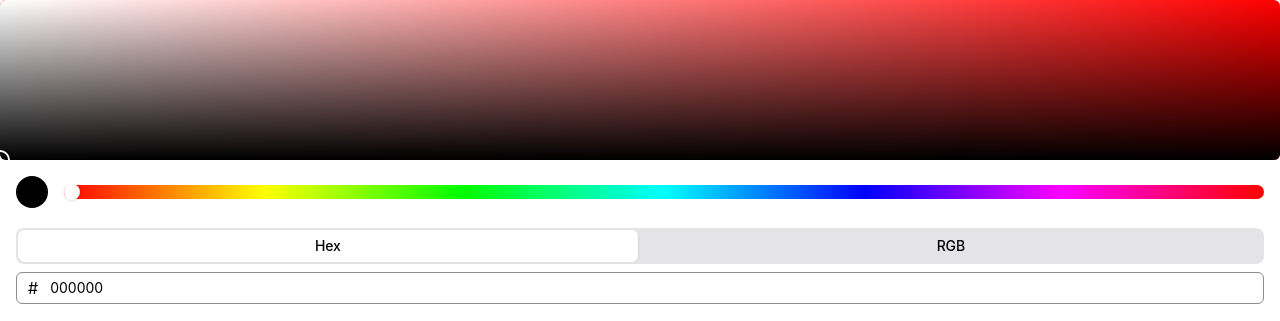
Test: components/color-picker/RuiColorPicker.vue › should type on the input
Replace the text in the field named "Hex color" with "ff0000" at (651, 288), box [38,272,1264,304]
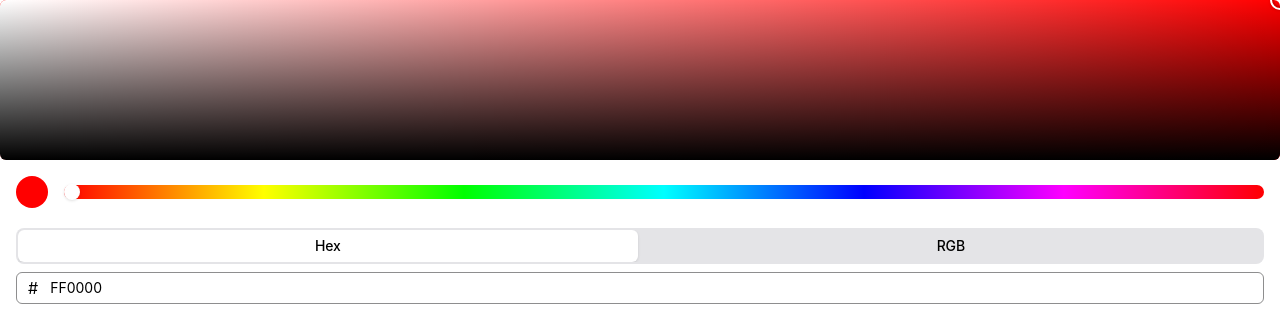
Click the tab "RGB".
click(951, 246)  # box [640,230,1262,262]
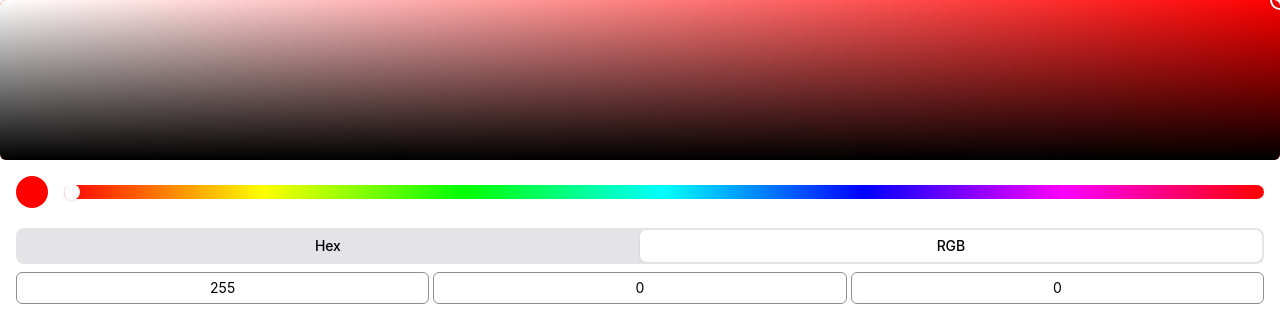
Expected: the field named "Red" holds "255"
Expected: the field named "Green" holds "0", [433,272,847,304]
Expected: the field named "Blue" holds "0", [851,272,1264,304]
Replace the text in the field named "Red" with "128" at (223, 288), box [16,272,429,304]
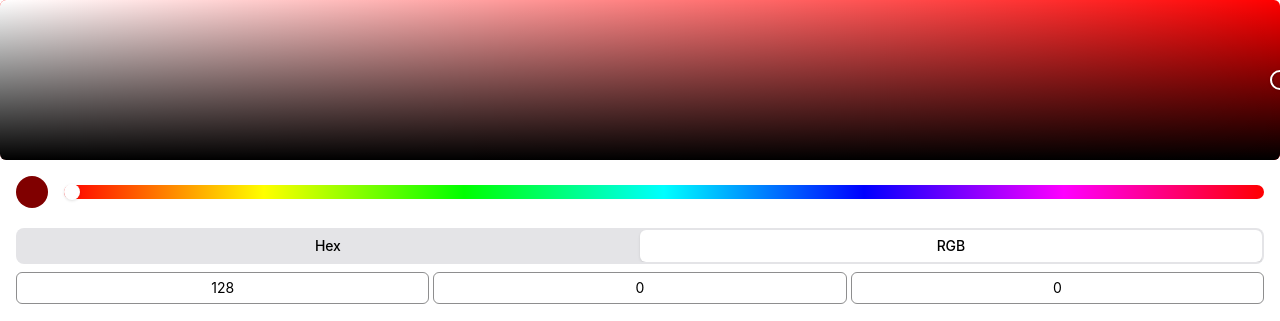
Replace the text in the field named "Green" with "255" at (640, 288), box [433,272,847,304]
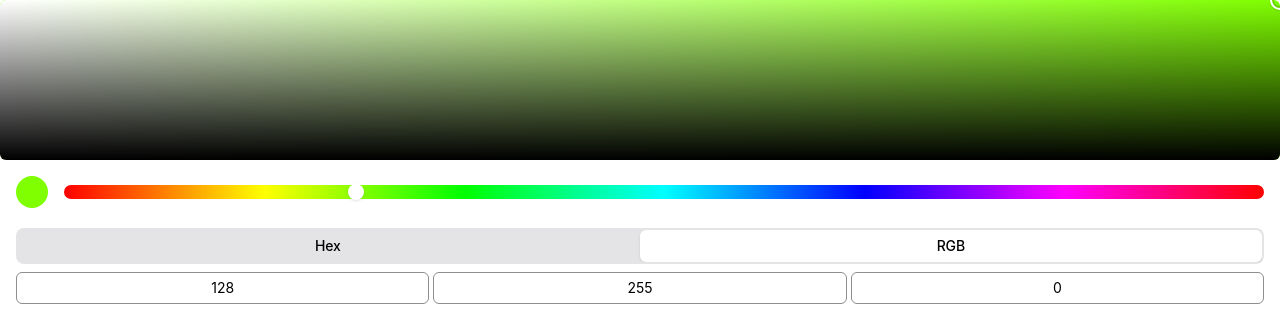
Replace the text in the field named "Blue" with "255" at (1057, 288), box [851,272,1264,304]
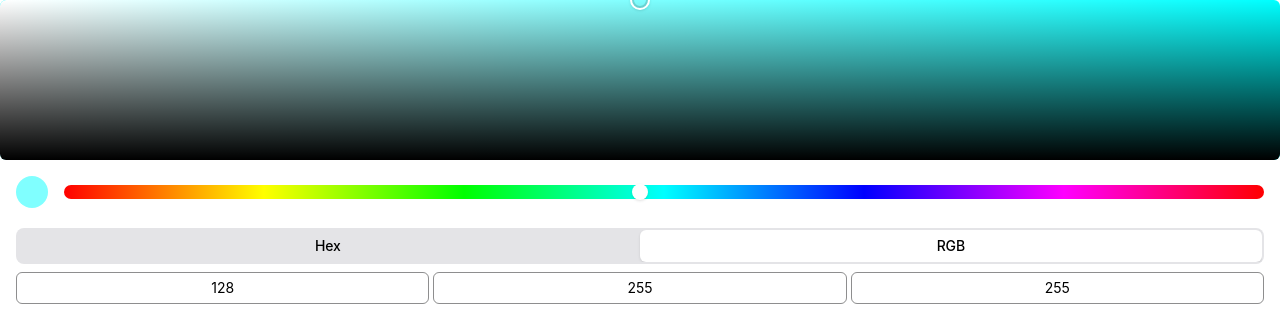
Click the tab "Hex".
click(328, 246)  # box [18,230,638,262]
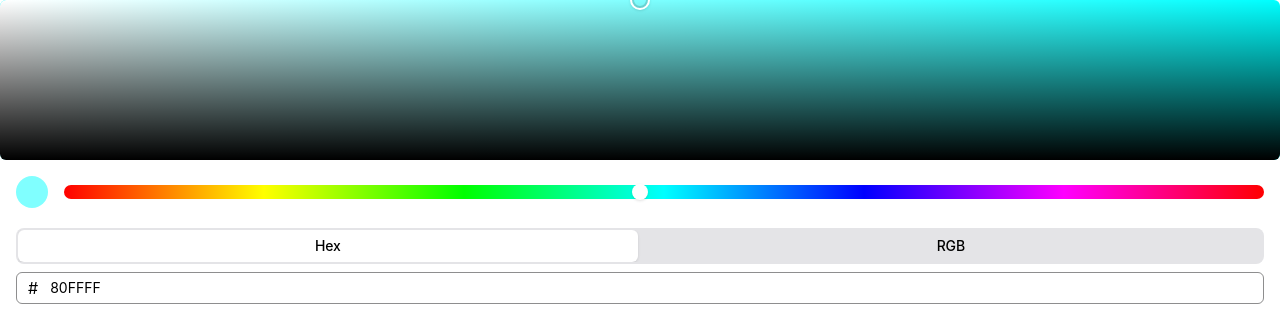
Expected: the field named "Hex color" holds "80ffff", [38,272,1264,304]
